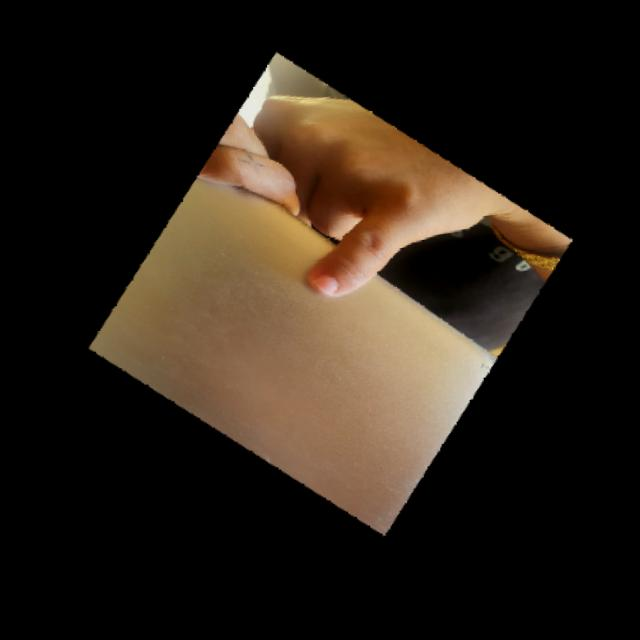Nail: (313, 274, 337, 294)
